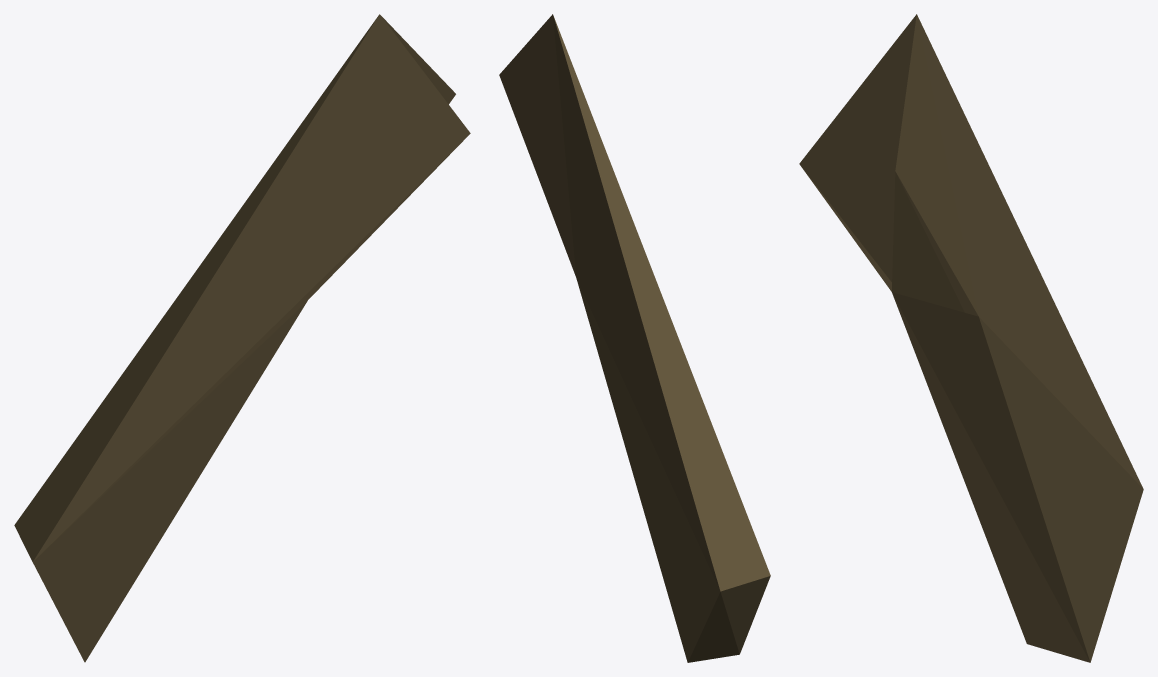
File: ant-strip-hind-left.dae
3 views of the same model, side by side, from view 1: azimuth 30°, elevation 25°; view 2: azimuth 150°, elevation 25°; view 3: azimuth 270°, elevation 25° (orthographic). The views are drawn at different scales.
Parts seen in each view (by area): view 1: ant-tibia-strip-hind-left; view 2: ant-tibia-strip-hind-left; view 3: ant-tibia-strip-hind-left.
Boxes of the visible parts, left/top/right/bottom form: ant-tibia-strip-hind-left: left=14, top=14, right=470, bottom=662; ant-tibia-strip-hind-left: left=499, top=14, right=770, bottom=662; ant-tibia-strip-hind-left: left=799, top=14, right=1143, bottom=662.
Size of the model in its own units: 0.3389 by 0.2197 by 0.5528.
